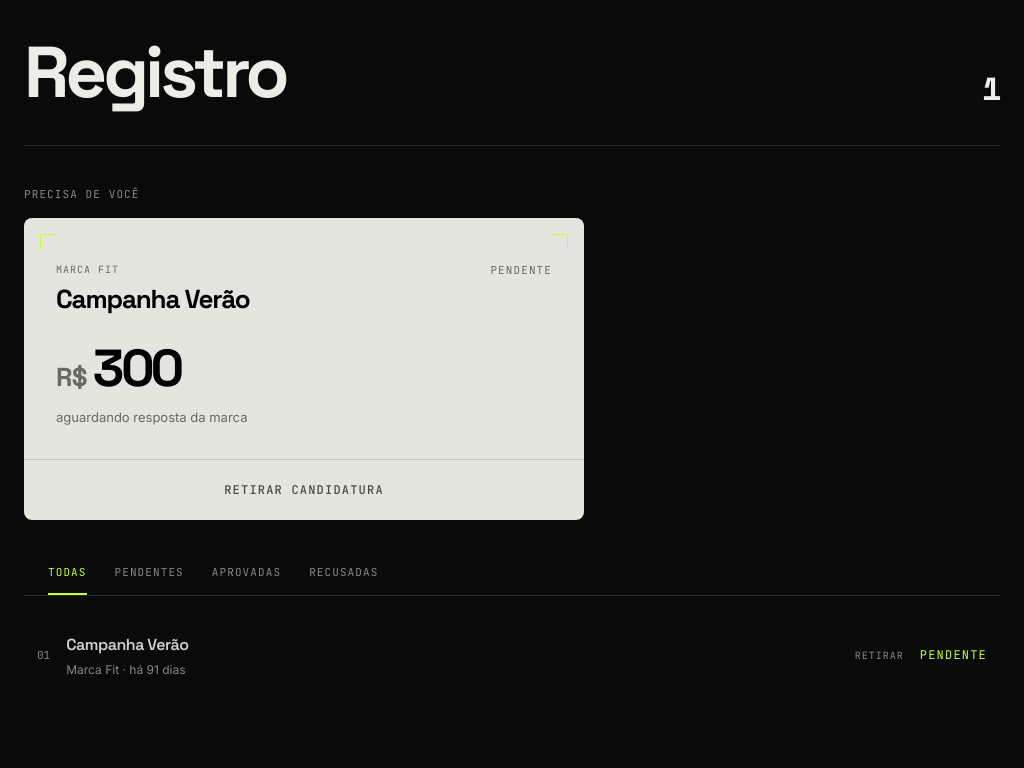
Test case: MyApplicationsPage › cancelar fecha a confirmação sem retirar
The width and height of the screenshot is (1024, 768).
Step 1. Click the button "Retirar candidatura" → (304, 490), box 24,460 -> 584,520
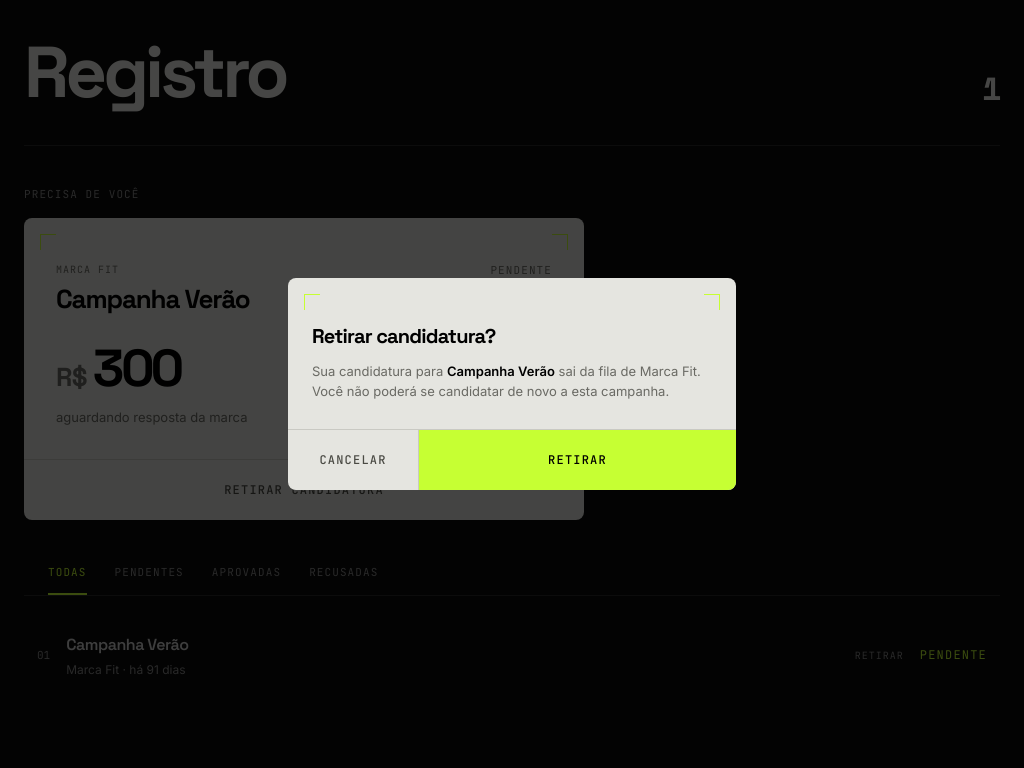
Step 2. Click the button "Cancelar" → (353, 460), box 288,430 -> 418,490
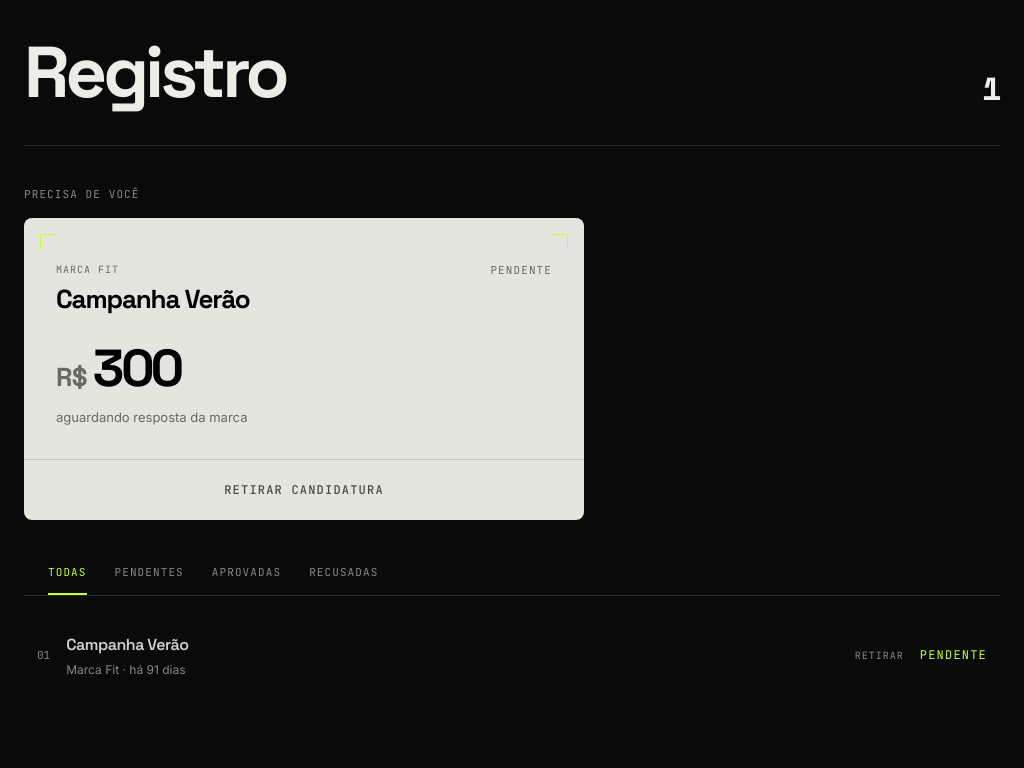
Check: the dialog is gone
